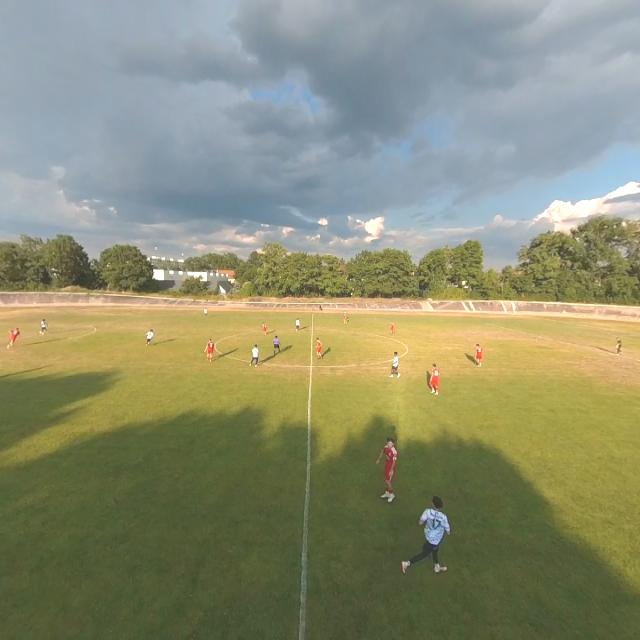ball: (39, 331, 42, 335)
